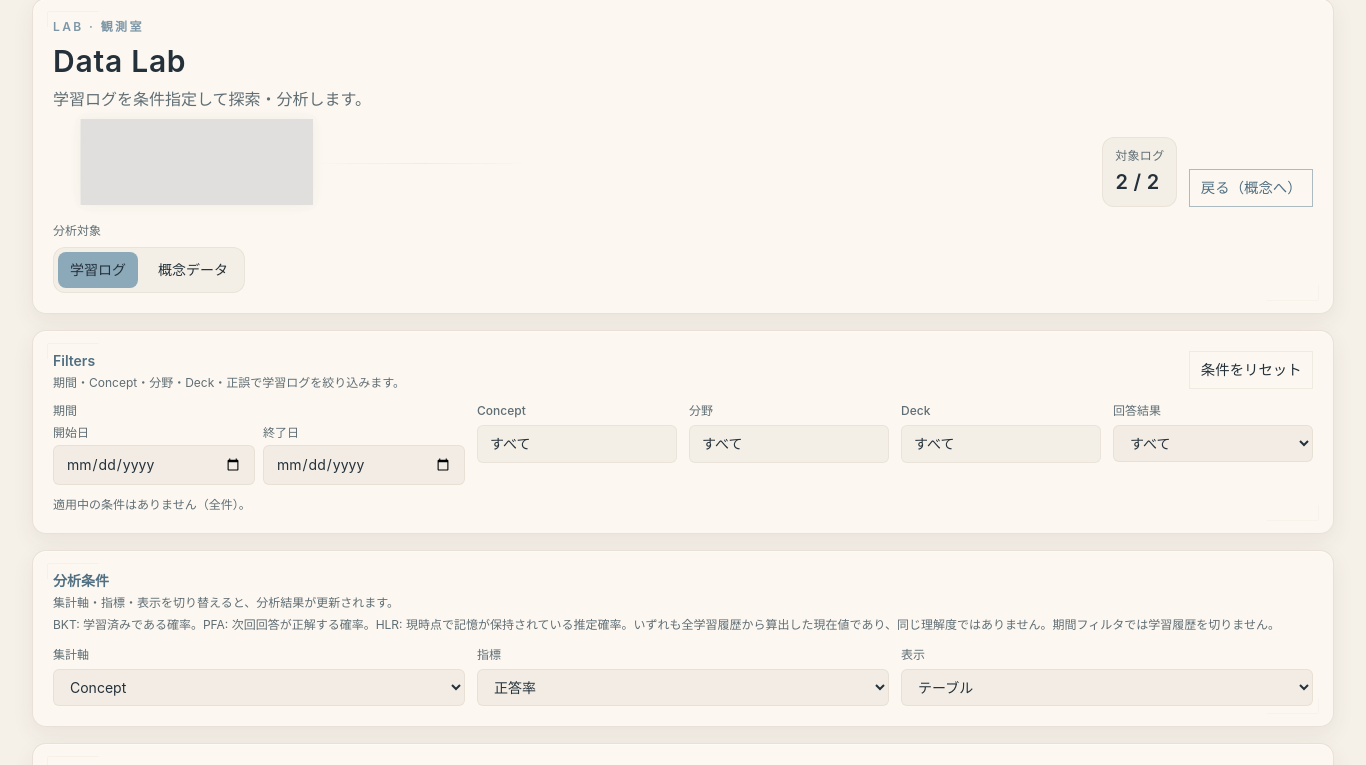
Test: DataLabView (#89 / #90) › 6集計軸を切り替え、先頭列名とラベルを表示する
This screenshot has width=1366, height=765.
Select "分野" in the dropdown labelled "集計軸" at (259, 687), box [53,668,465,706]
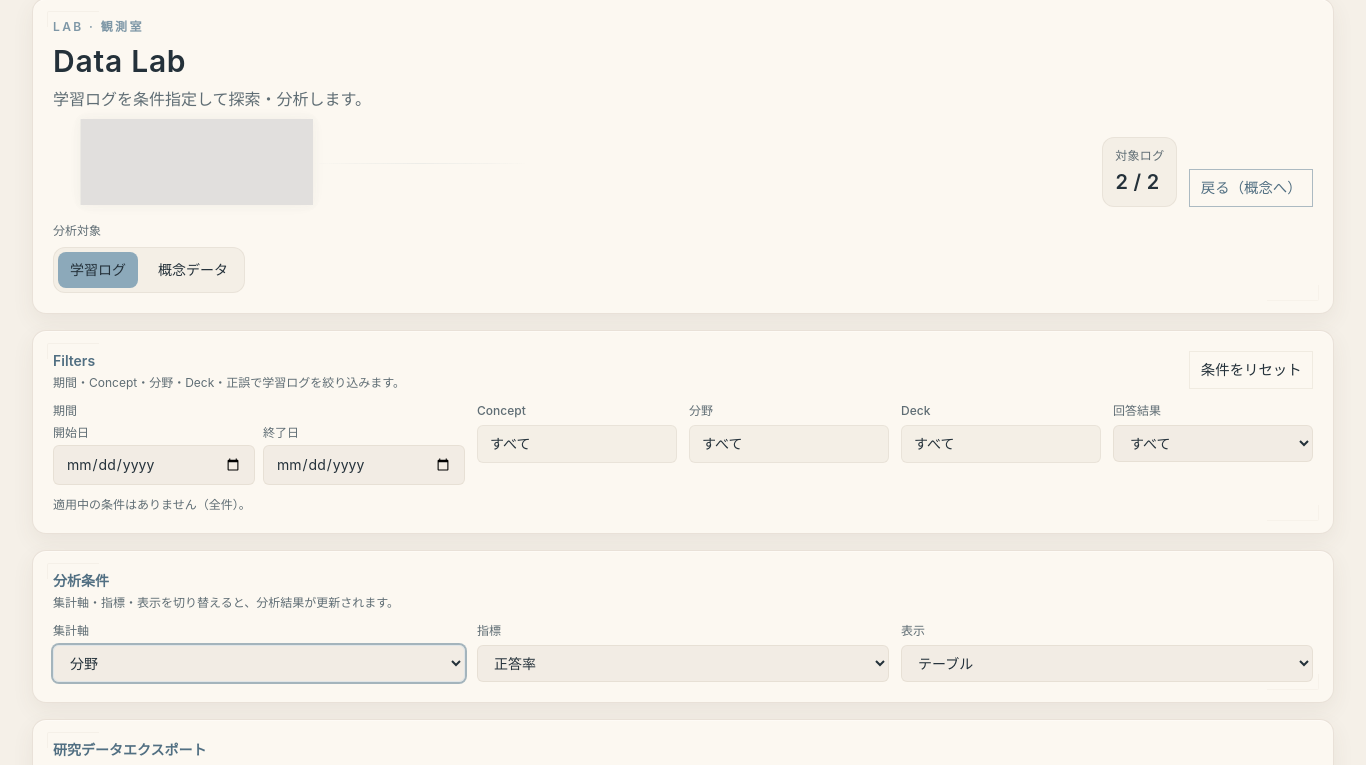
Select "Deck" in the dropdown labelled "集計軸" at (259, 664), box [53,645,465,682]
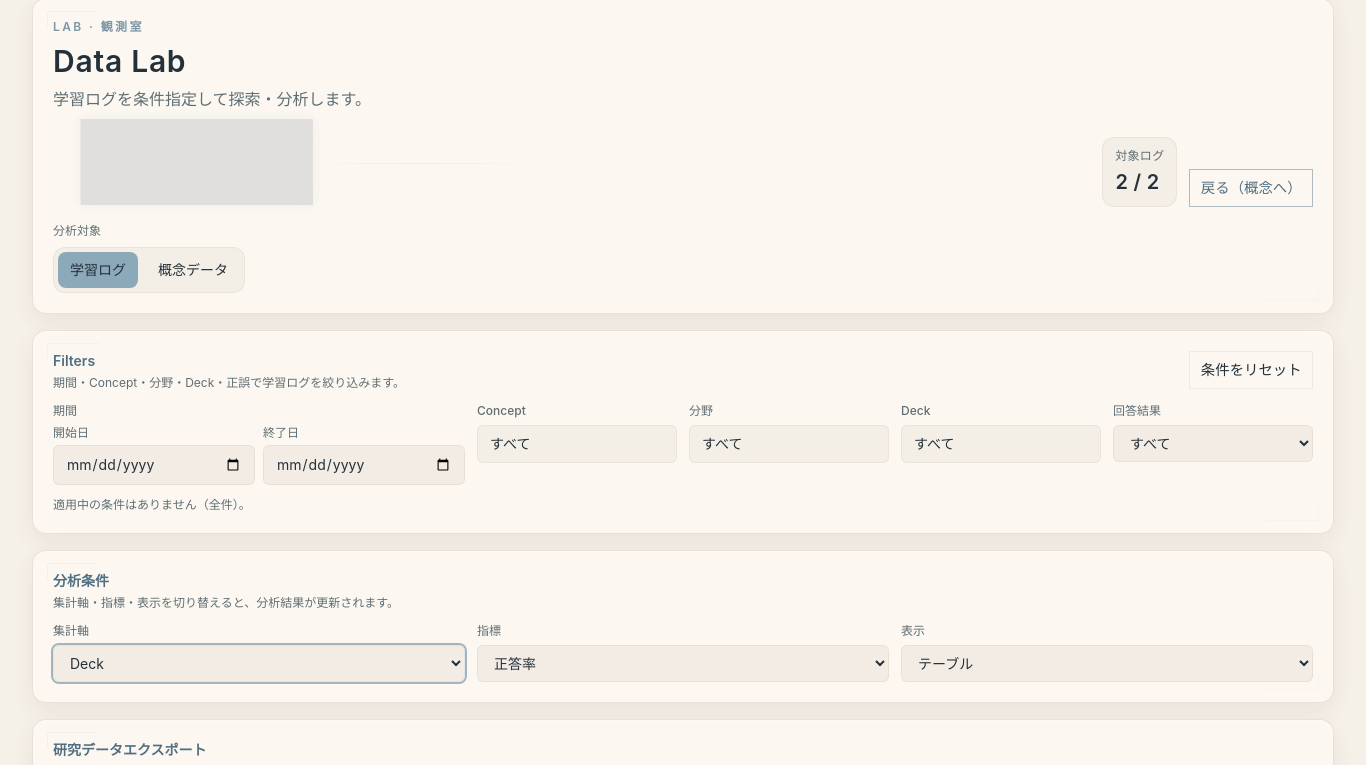
Select "日" in the dropdown labelled "集計軸" at (259, 664), box [53,645,465,682]
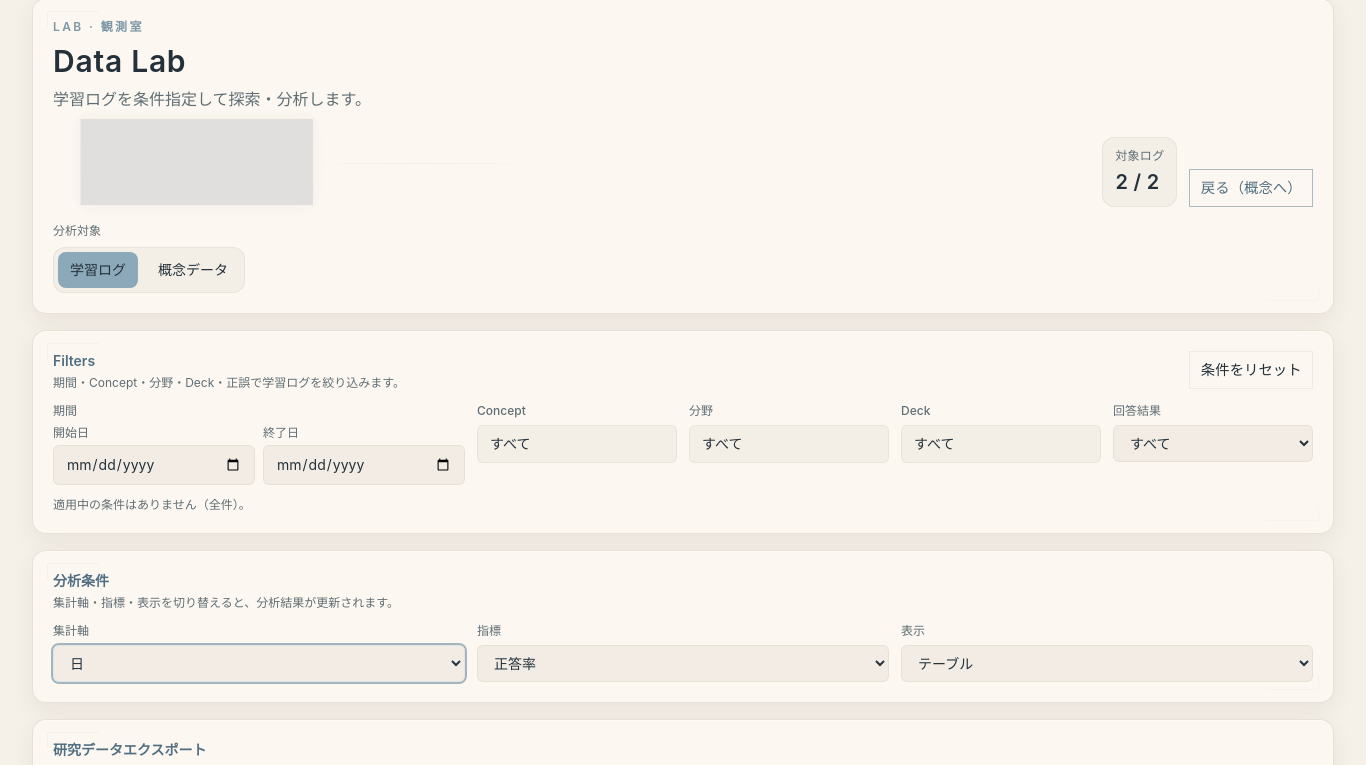
Select "週" in the dropdown labelled "集計軸" at (259, 664), box [53,645,465,682]
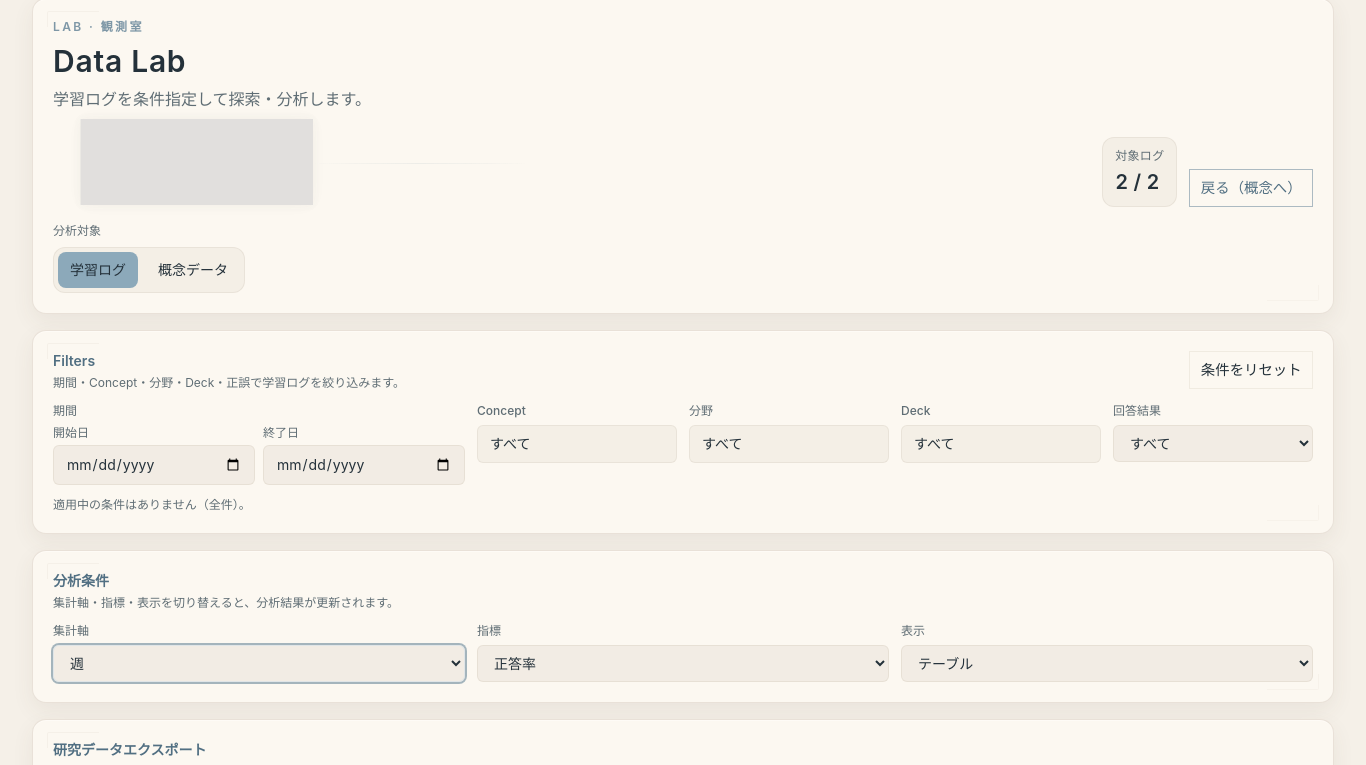
Select "月" in the dropdown labelled "集計軸" at (259, 664), box [53,645,465,682]
(page scrolled)
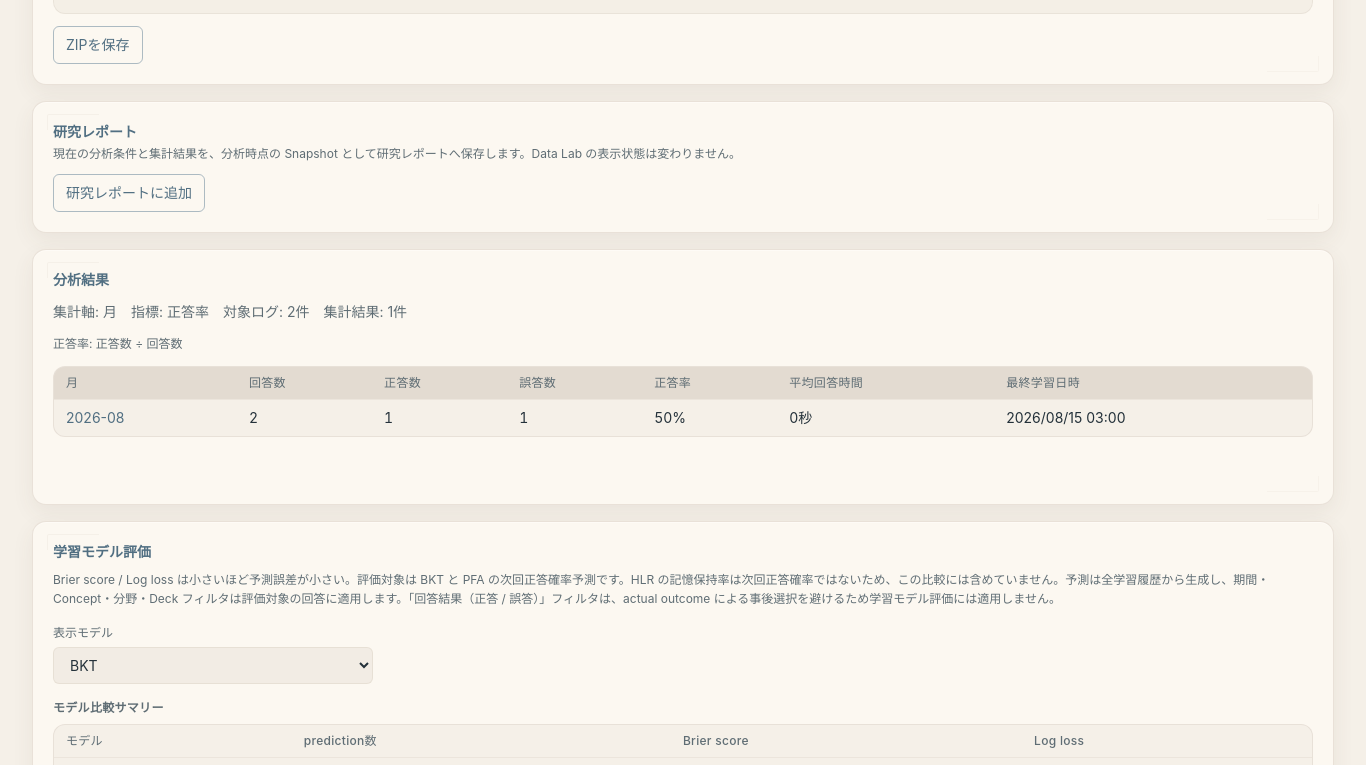
Result: the button named "月で並べ替え" is shown at [66,374,78,390]
